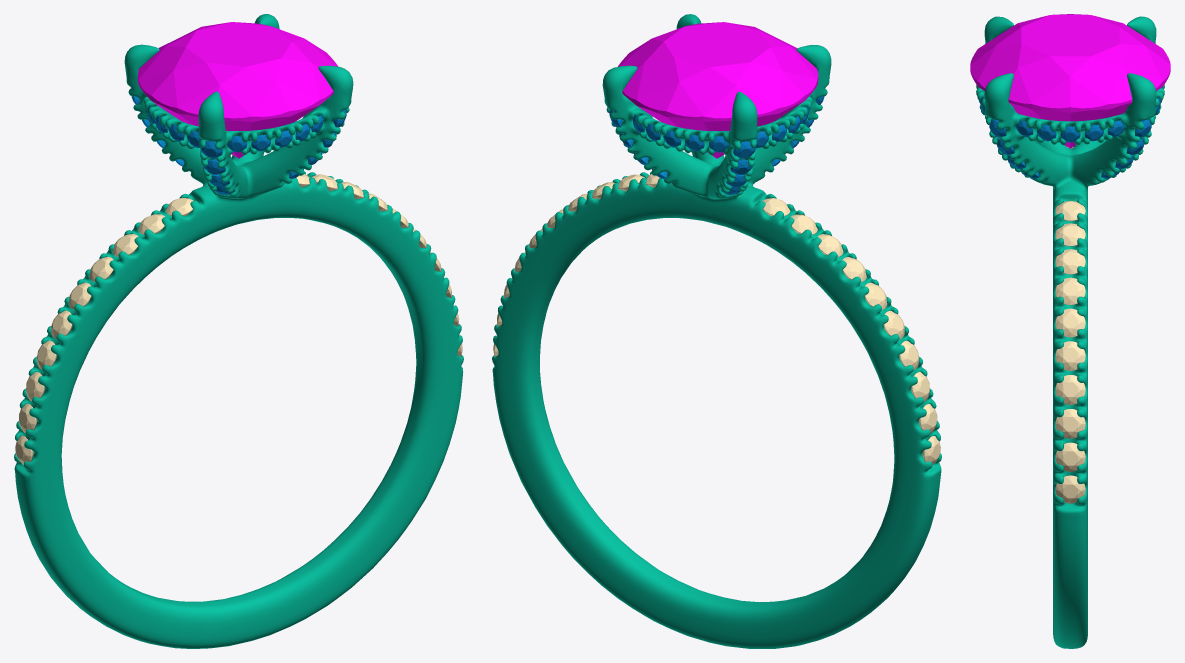
Rendered from BE1D1260_RD_200ct_RENDER.glb.
3 views of the same model, side by side, from view 1: azimuth 30°, elevation 25°; view 2: azimuth 150°, elevation 25°; view 3: azimuth 270°, elevation 25° (orthographic).
Parts seen in each view (by area): view 1: Metal 01, CS_Diamond_Round; view 2: Metal 01, CS_Diamond_Round; view 3: Metal 01, CS_Diamond_Round, Diamond_Round_Gem_SH.013, Diamond_Round_Gem_SH.012, Diamond_Round_Gem_SH.014, Diamond_Round_Gem_SH.011, Diamond_Round_Gem_SH.015, Diamond_Round_Gem_SH.010, Diamond_Round_Gem_SH.016, Diamond_Round_Gem_SH.017, Diamond_Round_Gem_SH.018, Diamond_Round_Gem_SH.019.
Boxes of the visible parts, <box> form: Metal 01: <box>14,14,463,648</box>; CS_Diamond_Round: <box>137,22,337,158</box>; Metal 01: <box>492,14,941,648</box>; CS_Diamond_Round: <box>618,22,818,158</box>; Metal 01: <box>976,16,1164,648</box>; CS_Diamond_Round: <box>970,14,1170,148</box>; Diamond_Round_Gem_SH.013: <box>1055,375,1085,404</box>; Diamond_Round_Gem_SH.012: <box>1055,409,1085,438</box>; Diamond_Round_Gem_SH.014: <box>1055,341,1085,370</box>; Diamond_Round_Gem_SH.011: <box>1055,442,1085,471</box>; Diamond_Round_Gem_SH.015: <box>1055,308,1085,337</box>; Diamond_Round_Gem_SH.010: <box>1055,475,1085,503</box>; Diamond_Round_Gem_SH.016: <box>1055,277,1085,305</box>; Diamond_Round_Gem_SH.017: <box>1055,249,1085,274</box>; Diamond_Round_Gem_SH.018: <box>1055,223,1085,246</box>; Diamond_Round_Gem_SH.019: <box>1055,201,1085,221</box>.
Bounding box in the file's own units: 20.09 × 25.98 × 8.
